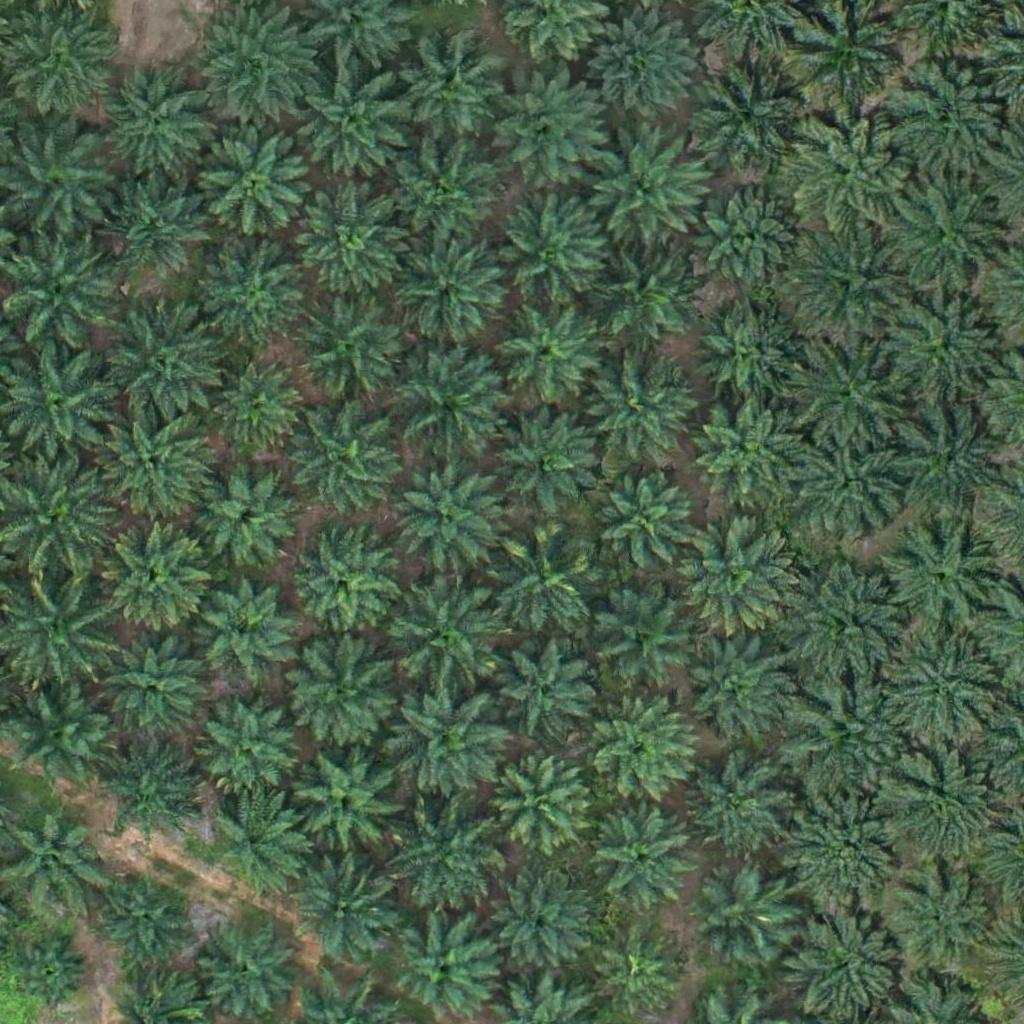Kelapa_Sawit: (693, 53, 818, 179), (792, 123, 917, 249), (93, 300, 218, 426), (386, 682, 511, 808), (675, 506, 800, 632), (671, 623, 796, 749), (788, 564, 913, 690), (788, 675, 913, 801), (885, 51, 1010, 177), (888, 394, 1013, 520), (785, 784, 910, 910), (876, 749, 1001, 875), (582, 131, 707, 256), (796, 325, 921, 450), (883, 627, 1008, 752), (490, 72, 603, 186), (396, 26, 509, 140), (392, 139, 505, 253), (99, 66, 212, 180), (4, 8, 117, 122), (98, 170, 211, 284), (200, 237, 313, 351), (293, 402, 406, 516), (884, 183, 997, 297), (284, 524, 397, 637), (287, 637, 400, 750), (495, 193, 608, 306), (584, 353, 697, 466), (387, 803, 500, 916), (889, 286, 1002, 399), (880, 524, 993, 637), (293, 64, 405, 178), (196, 132, 308, 246), (7, 133, 119, 247), (295, 293, 407, 407), (391, 456, 503, 570), (389, 579, 501, 693), (486, 530, 598, 644), (586, 697, 698, 811), (585, 4, 697, 117), (201, 10, 313, 123), (8, 233, 120, 346), (101, 412, 213, 525), (101, 513, 213, 626), (294, 178, 406, 291), (396, 233, 508, 346), (395, 353, 507, 466), (687, 396, 799, 509), (795, 432, 907, 545), (107, 638, 207, 739), (199, 464, 299, 565), (197, 587, 297, 688), (496, 299, 596, 400), (494, 406, 594, 507), (595, 251, 695, 352), (596, 474, 696, 575), (701, 181, 801, 282), (696, 306, 796, 407), (802, 232, 902, 333), (493, 878, 593, 979), (394, 918, 494, 1019), (298, 754, 398, 855), (291, 851, 391, 952), (199, 922, 299, 1023), (208, 787, 308, 888), (195, 699, 295, 800), (99, 740, 199, 841), (99, 872, 199, 973), (1, 797, 101, 898), (888, 867, 988, 968), (207, 358, 307, 458), (500, 635, 600, 735), (590, 589, 690, 689), (687, 761, 787, 861), (695, 869, 795, 969), (594, 811, 694, 911), (491, 756, 591, 856), (595, 931, 683, 1019), (14, 939, 89, 1015)
